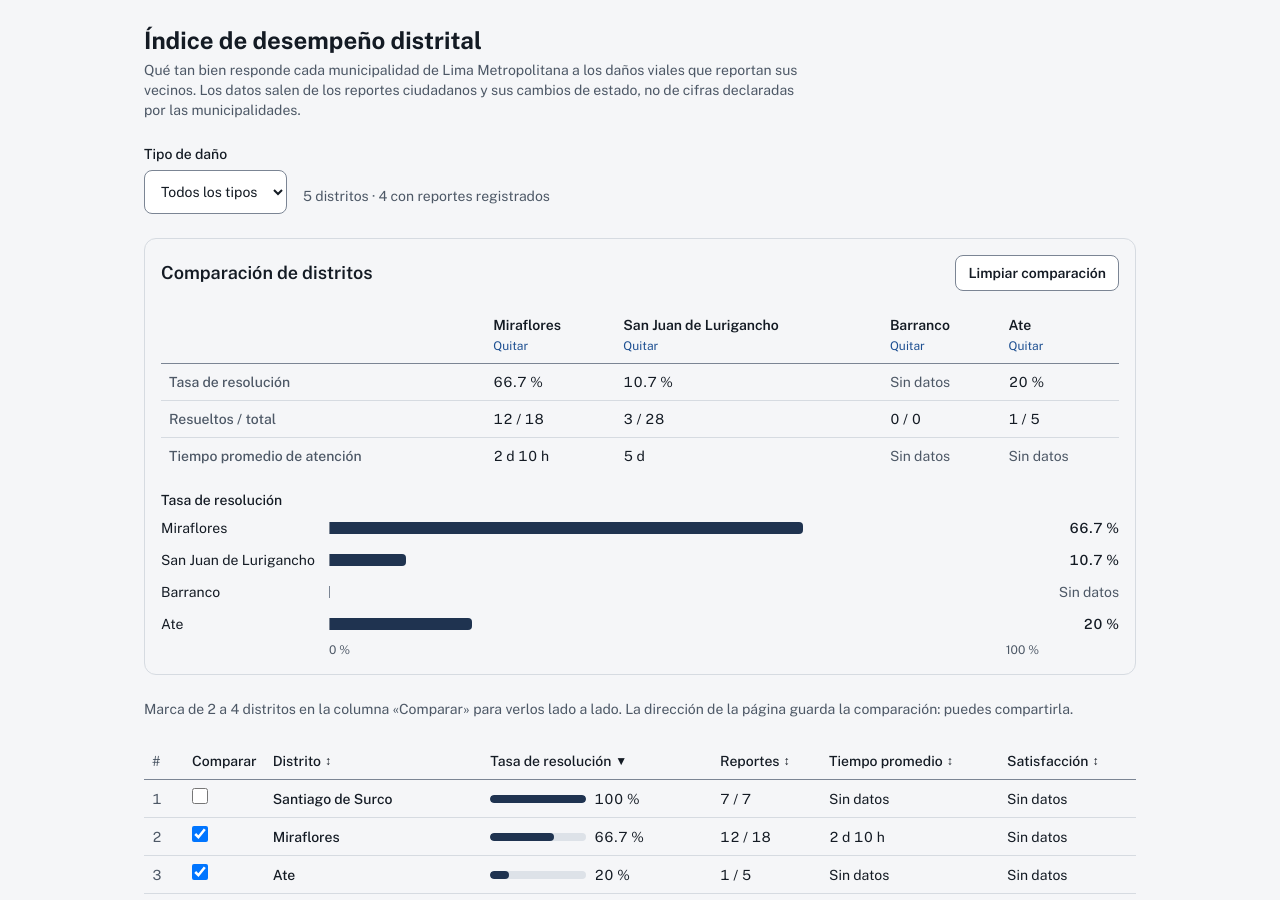
it: IndiceDesempeno: comparar distritos (US-19) › con 4 elegidos no agrega un quinto y explica el máximo
The width and height of the screenshot is (1280, 900).
Click the checkbox named "Comparar Santiago de Surco".
click(200, 796)  # box [192, 788, 208, 804]
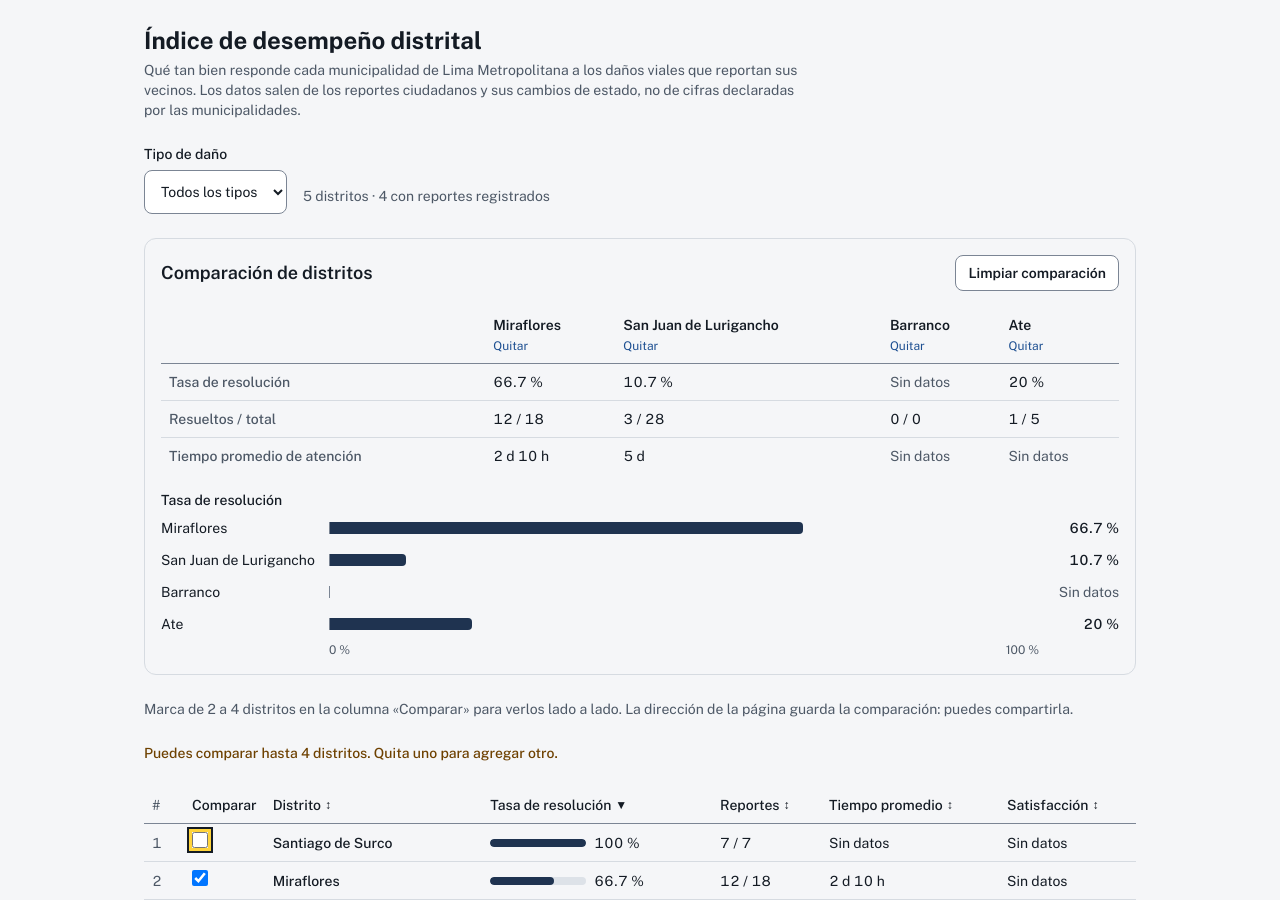
Expected: the checkbox named "Comparar Santiago de Surco" is not checked, [192, 832, 208, 848]
Now the message shows "Puedes comparar hasta 4 distritos", box [144, 745, 558, 761]
